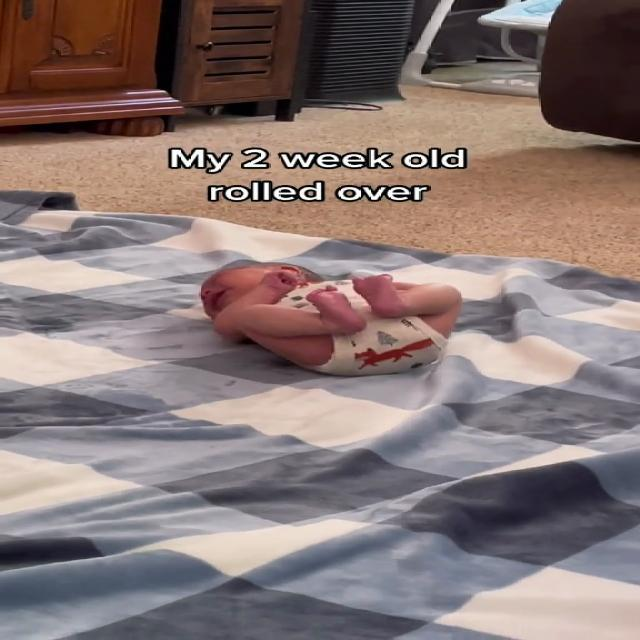baby: (182, 251, 470, 377)
